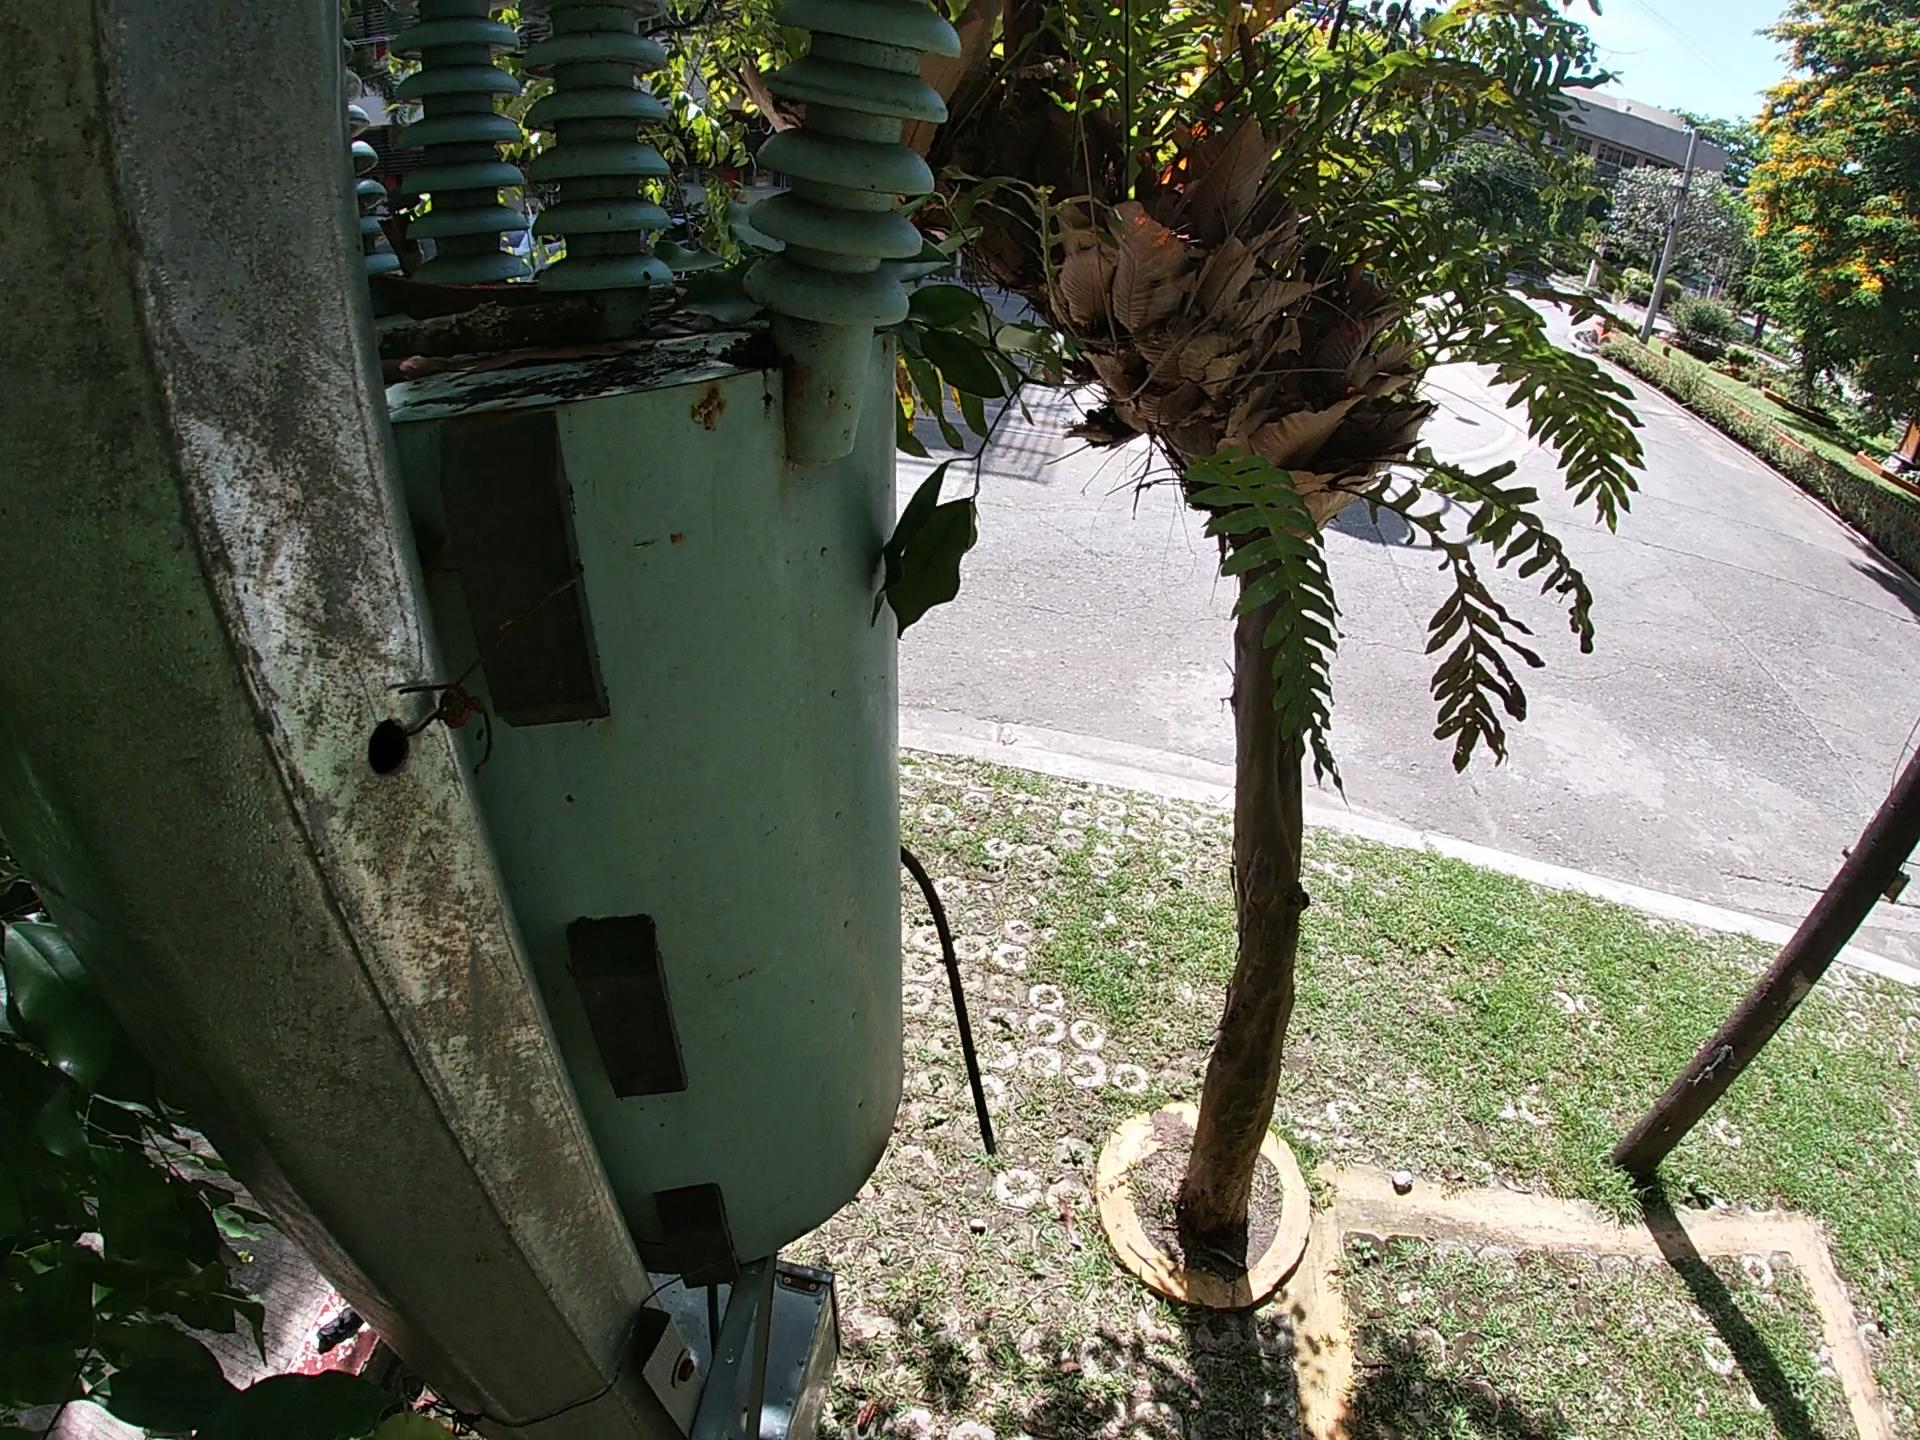branch with leaves: (865, 188, 1020, 672)
leaf: (658, 195, 771, 334), (379, 346, 590, 375)
mahogany fruit: (392, 263, 547, 303)
tree branch: (366, 303, 547, 337)
